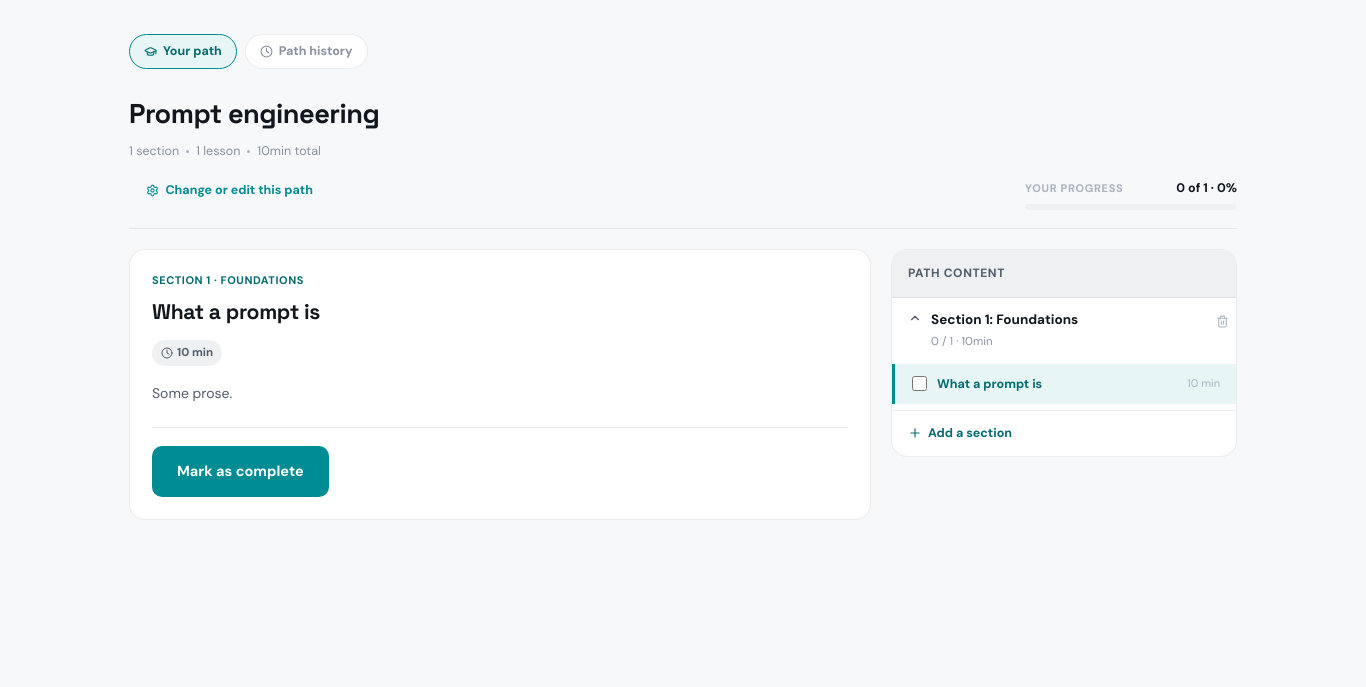
LearnPath tabs › keeps the quick switcher on the path tab and the fuller history on its own
The width and height of the screenshot is (1366, 687).
// The path tab: the panel is closed until asked for, and opens onto the subject box.
Click the button "Change or edit this path". click: click(229, 191)
box: [129,171,330,210]
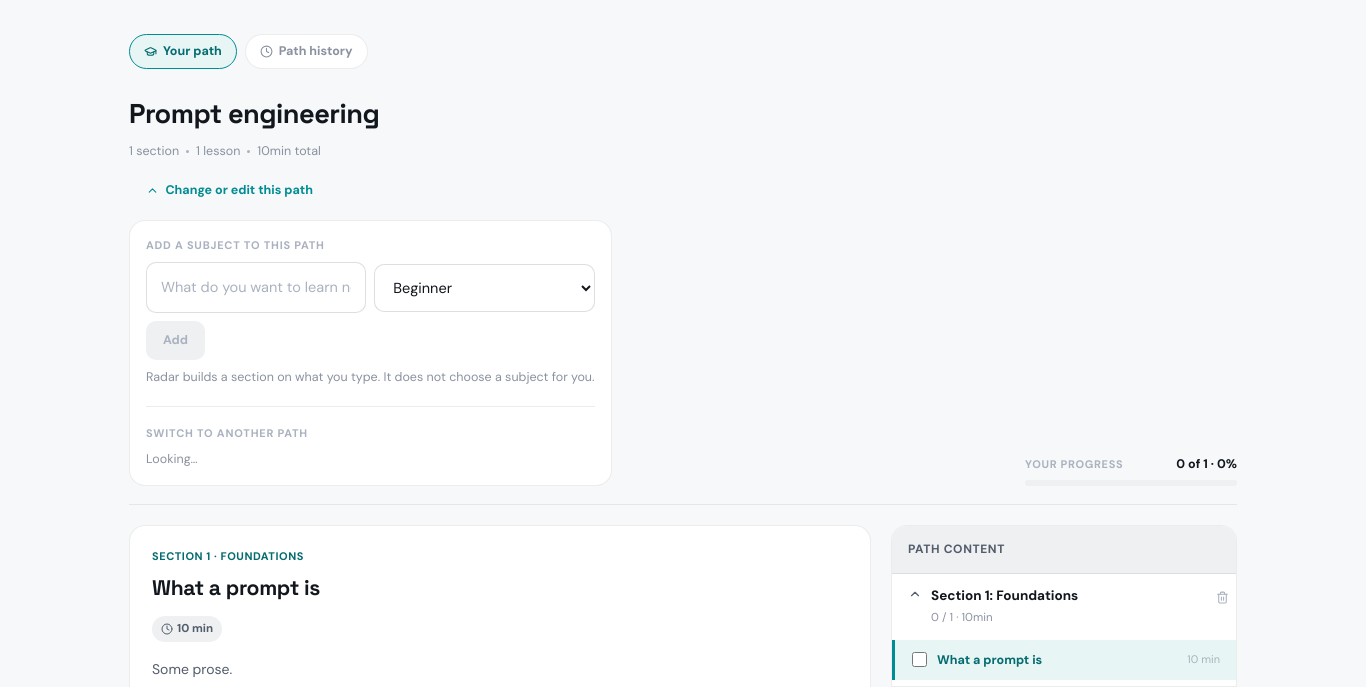
Expected: the field with placeholder "What do you want to learn next?" is shown, [146,262,366,313]
// The history tab: the same paths, with what the inline list cannot show.
Click the button "Path history". click: click(306, 52)
box: [245,34,368,69]
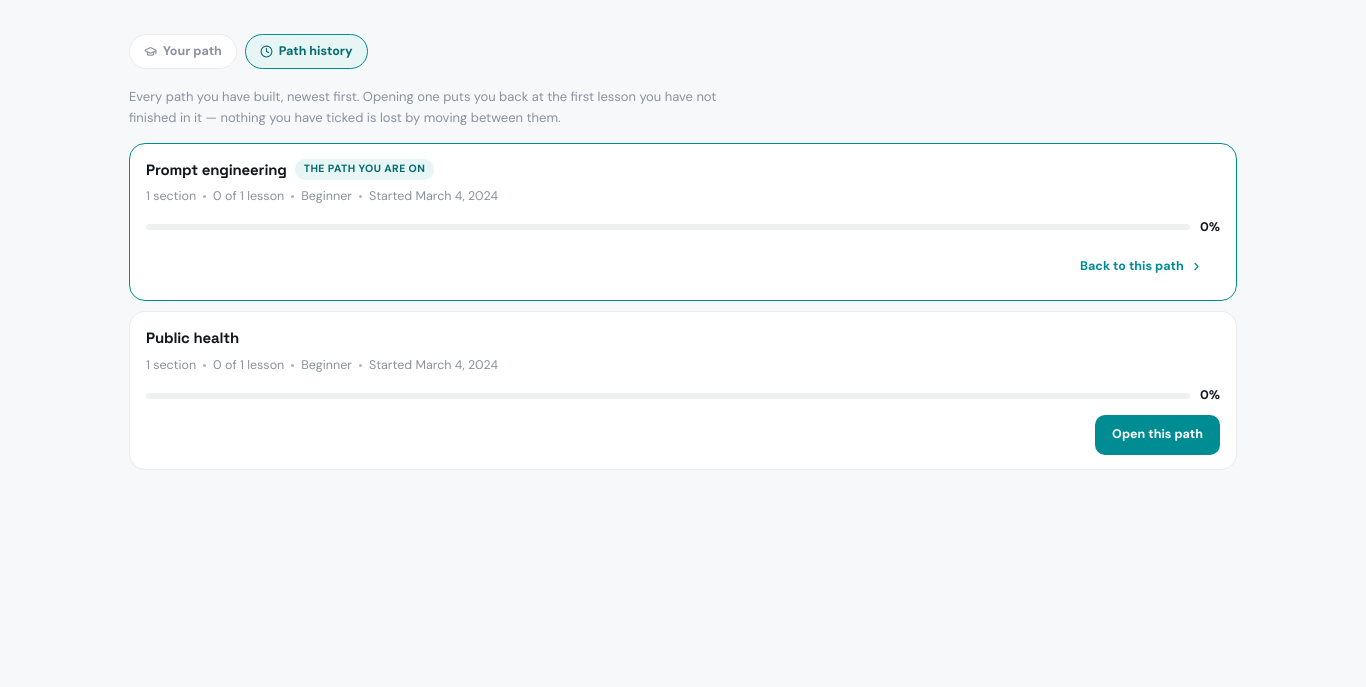
Expected: the button "Open this path" is shown, [1095,415,1220,455]
